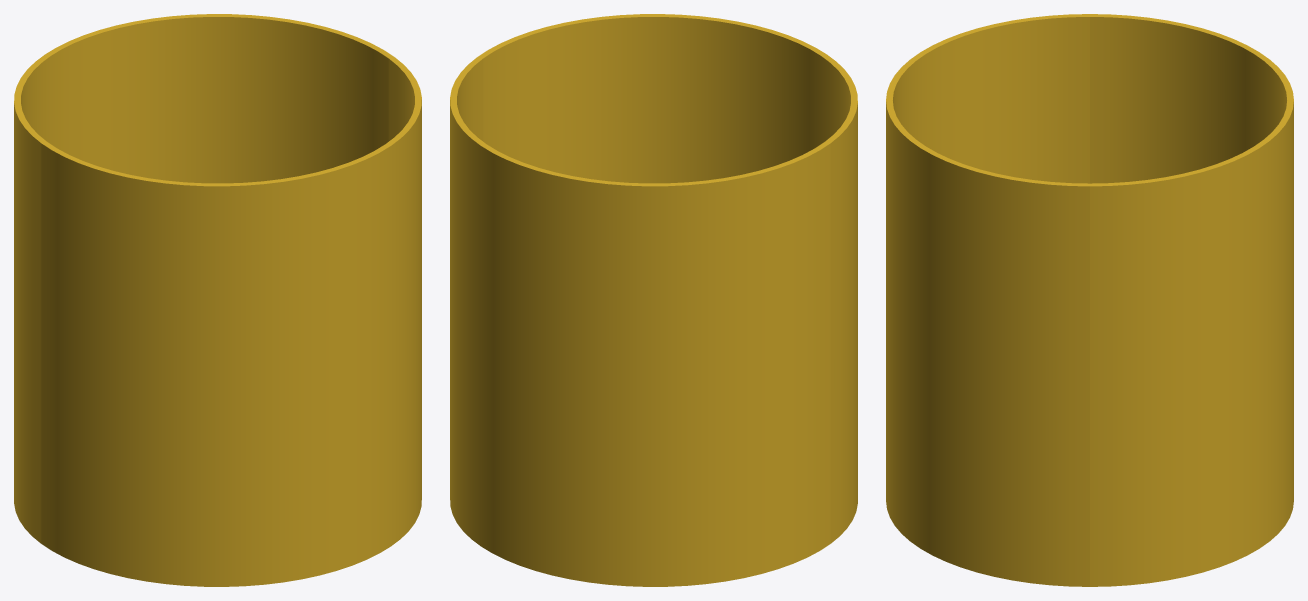
Rendered from chemical_preparation_tank_pressure.glb.
3 renders of one model, left to right at view 1: azimuth 30°, elevation 25°; view 2: azimuth 150°, elevation 25°; view 3: azimuth 270°, elevation 25°, orthographic.
Visible parts, largest first — view 1: pressure__front, pressure__back; view 2: pressure__back, pressure__front; view 3: pressure__back, pressure__front.
Part boxes in pixels (bbox=[...]): pressure__front: bbox=[41, 57, 421, 586]; pressure__back: bbox=[14, 14, 393, 543]; pressure__back: bbox=[450, 57, 830, 586]; pressure__front: bbox=[478, 14, 857, 543]; pressure__back: bbox=[1090, 14, 1293, 586]; pressure__front: bbox=[886, 14, 1089, 586].
Bounding box in the file's own units: 1.2 × 1.3 × 1.2.
